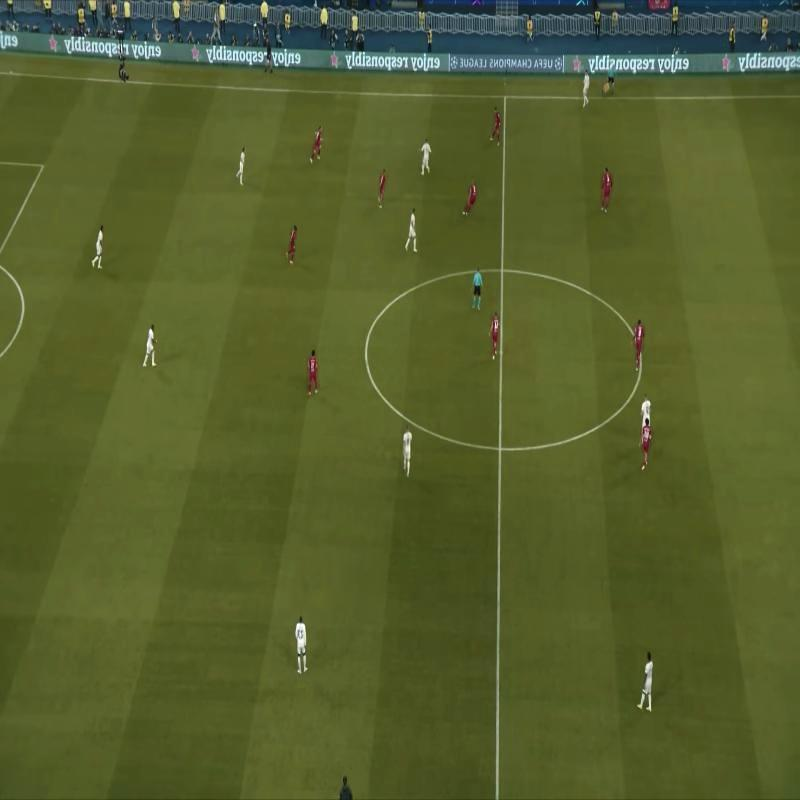13: (499, 88, 511, 108)
14: (493, 262, 510, 278)
15: (492, 440, 508, 458)
9: (36, 160, 51, 175)
c: (634, 348, 648, 377), (358, 342, 374, 358)
